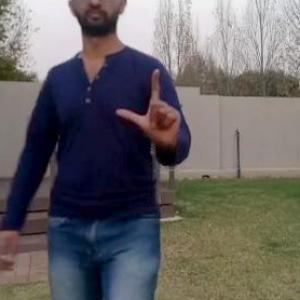land_hand: (112, 62, 191, 160)
